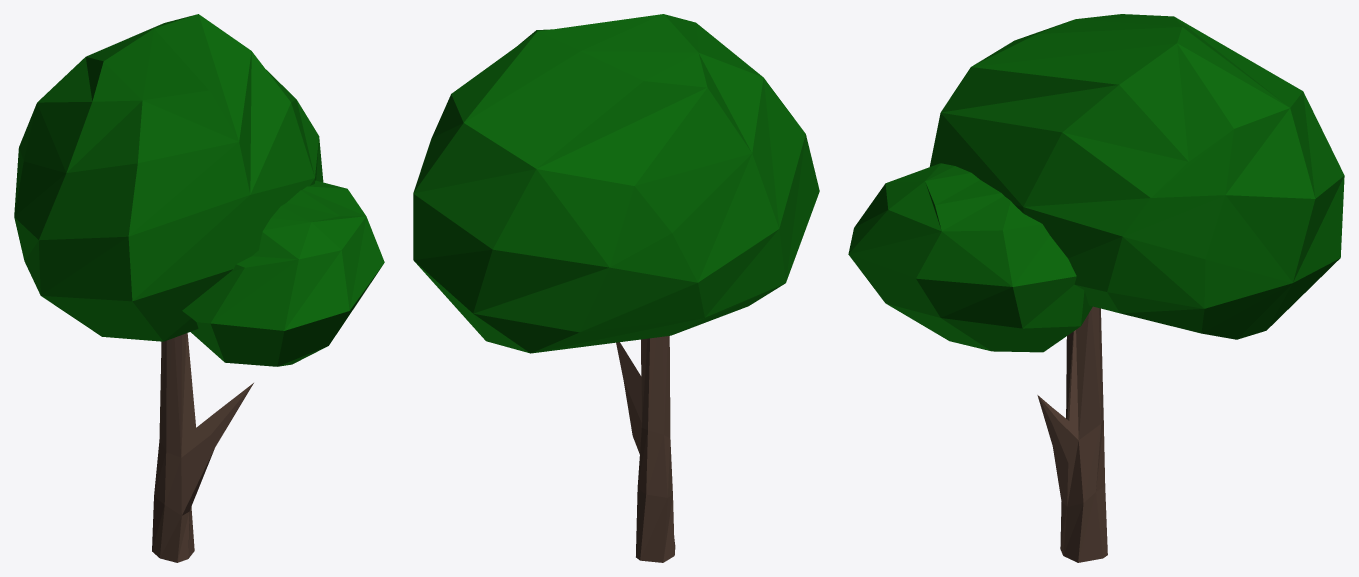
The model's file is Young-Tree.obj.
3 views of the same model, side by side, from view 1: azimuth 30°, elevation 25°; view 2: azimuth 150°, elevation 25°; view 3: azimuth 270°, elevation 25° (orthographic). The views are drawn at different scales.
Visible parts, largest first — view 1: Alder.086; view 2: Alder.086; view 3: Alder.086.
Boxes of the visible parts, box(x1,y1,x2,y2) form: Alder.086: box(14, 14, 384, 562); Alder.086: box(413, 14, 819, 562); Alder.086: box(848, 14, 1344, 562).
Size of the model in its own units: 2.74 by 4.47 by 3.68.
